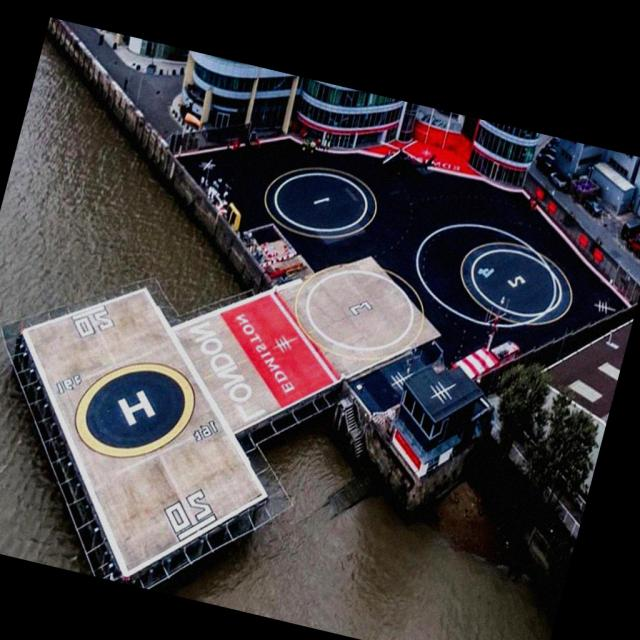helipad: (70, 356, 198, 460)
